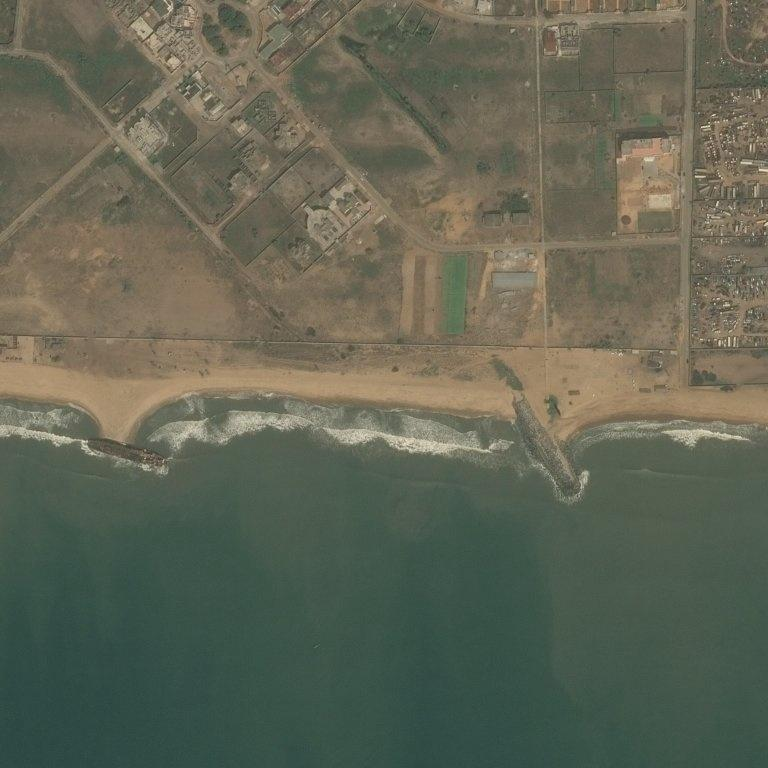ship: (82, 53, 164, 86)
